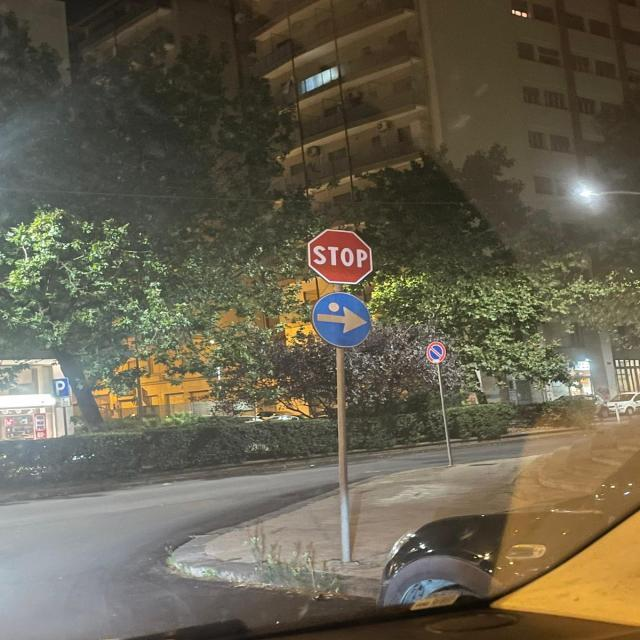forb_stopping: (427, 342, 447, 364)
prio_stop: (307, 228, 374, 285)
